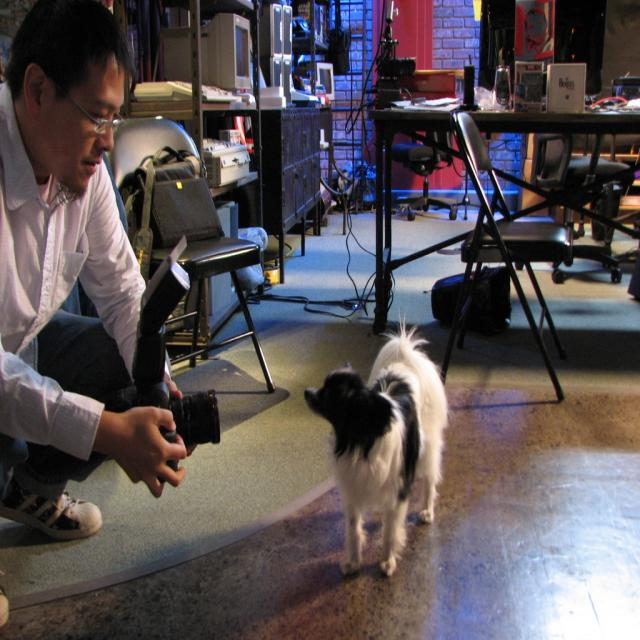chair: (437, 109, 572, 404), (120, 149, 276, 395)
desk: (368, 91, 640, 338)
person: (1, 0, 206, 578)
